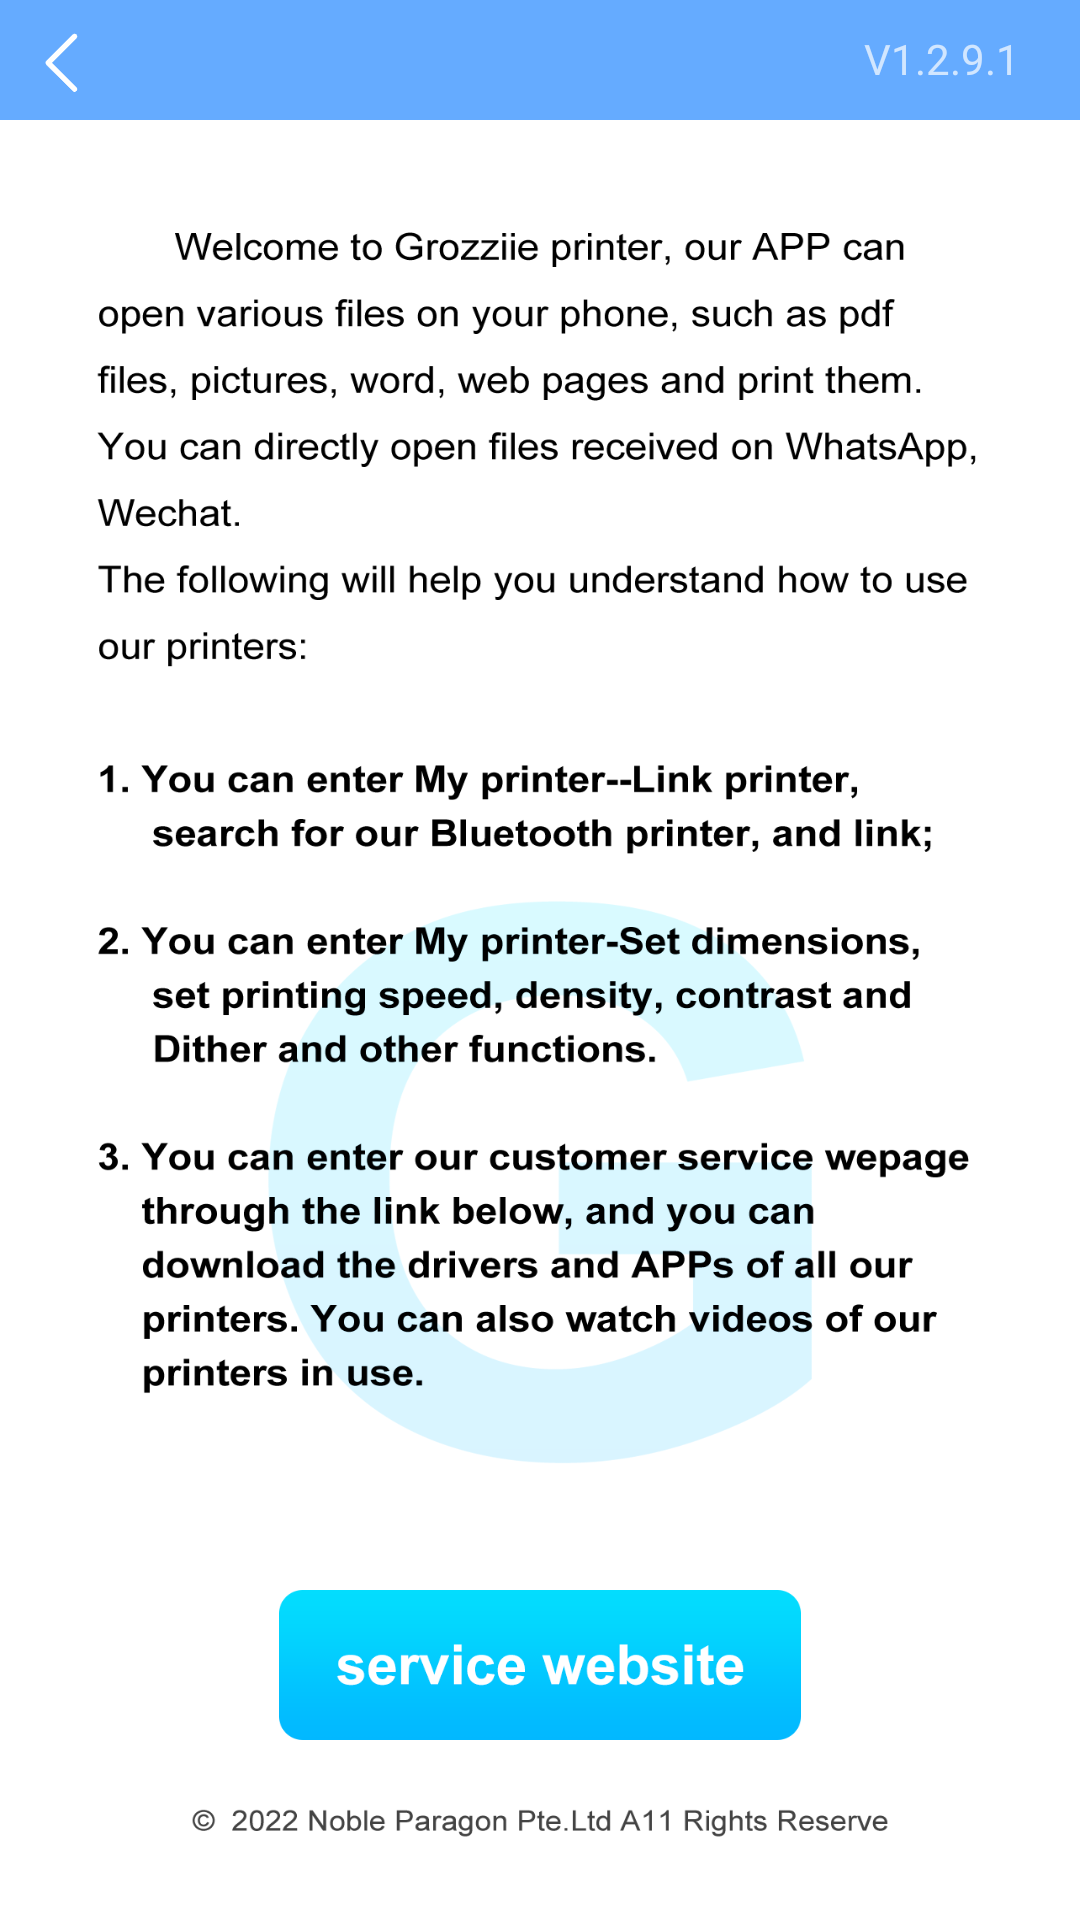

Point at icon controls on the screen. Image size 1080x1920, points as (x,y).
backlast: (61,62)
